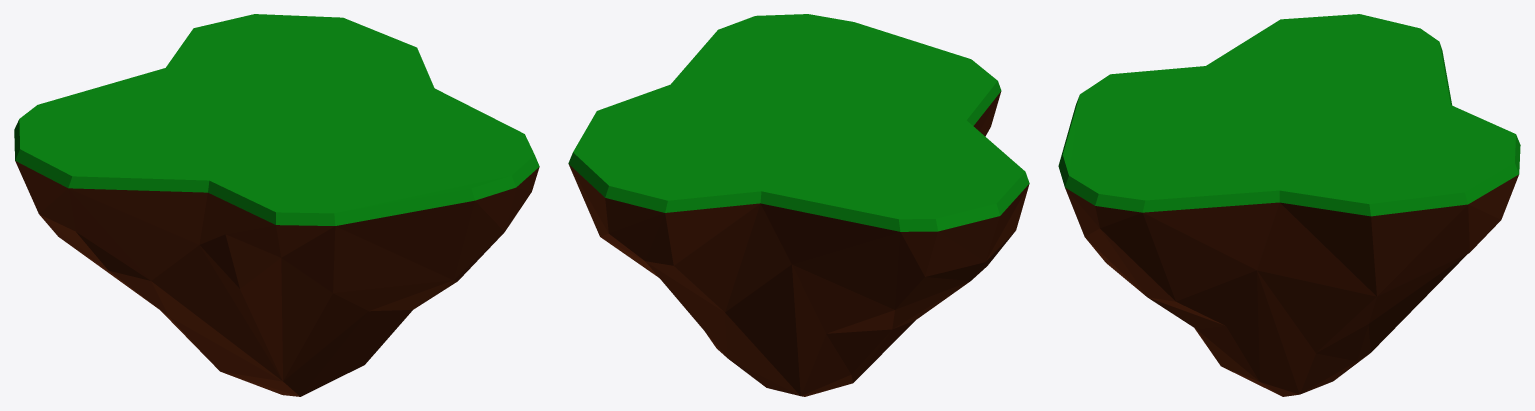
The model's file is FloatingIsland_1.fbx.
The picture shows the model from 3 angles, left to right: view 1: azimuth 30°, elevation 25°; view 2: azimuth 150°, elevation 25°; view 3: azimuth 270°, elevation 25°; orthographic projection. The views are drawn at different scales.
Visible parts, largest first — view 1: FloatingIsland_1; view 2: FloatingIsland_1; view 3: FloatingIsland_1.
Boxes of the visible parts, x1,y1,x2,y2 form: FloatingIsland_1: (14,14,539,396); FloatingIsland_1: (568,14,1029,396); FloatingIsland_1: (1058,14,1520,396).
Size of the model in its own units: 1650 by 1067 by 1662.
